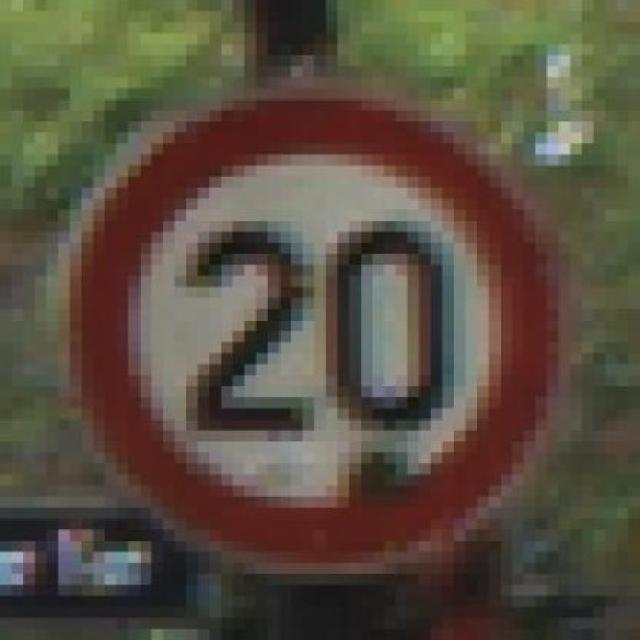forb_speed_over_20: (87, 100, 548, 560)
